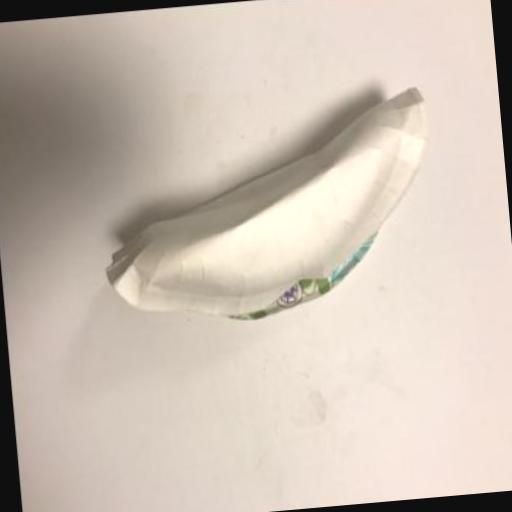cardboard: (92, 84, 442, 330)
paper: (93, 84, 442, 330)
